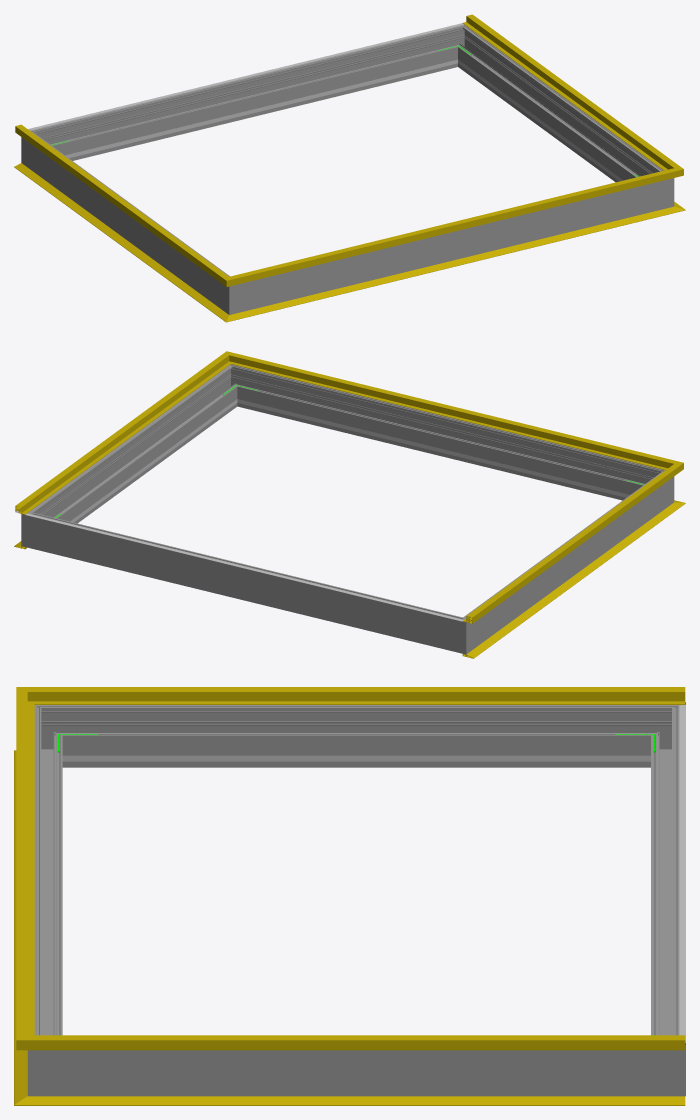
3 views of the same model, one above another, from view 1: azimuth 30°, elevation 25°; view 2: azimuth 150°, elevation 25°; view 3: azimuth 270°, elevation 25° (orthographic). The views are drawn at different scales.
Parts seen in each view (by area): view 1: 3DGeom-276, 3DGeom-298, 3DGeom-297, 3DGeom-268, 3DGeom-123, 3DGeom-128, 3DGeom-28, 3DGeom-118, 3DGeom-38, 3DGeom-244, 3DGeom-220, 3DGeom-270 (+4 smaller); view 2: 3DGeom-298, 3DGeom-276, 3DGeom-297, 3DGeom-123, 3DGeom-268, 3DGeom-128, 3DGeom-118, 3DGeom-38, 3DGeom-239, 3DGeom-278, 3DGeom-220, 3DGeom-284 (+3 smaller); view 3: 3DGeom-268, 3DGeom-297, 3DGeom-118, 3DGeom-128, 3DGeom-298, 3DGeom-276, 3DGeom-30, 3DGeom-123, 3DGeom-232, 3DGeom-220, 3DGeom-290, 3DGeom-284 (+5 smaller).
Part boxes in pixels (x1,y1,x2,y2): 3DGeom-276: (46, 29, 454, 160); 3DGeom-298: (252, 183, 651, 309); 3DGeom-297: (460, 33, 657, 182); 3DGeom-268: (34, 138, 223, 304); 3DGeom-123: (246, 172, 660, 281); 3DGeom-128: (463, 14, 670, 167); 3DGeom-28: (245, 210, 662, 316); 3DGeom-118: (15, 124, 218, 276); 3DGeom-38: (14, 163, 219, 312); 3DGeom-244: (73, 65, 435, 156); 3DGeom-220: (28, 23, 463, 130); 3DGeom-270: (216, 271, 252, 314); 3DGeom-298: (241, 369, 648, 500); 3DGeom-276: (44, 516, 446, 648); 3DGeom-297: (38, 372, 235, 523); 3DGeom-123: (244, 357, 660, 467); 3DGeom-268: (472, 478, 660, 644); 3DGeom-128: (15, 361, 223, 514); 3DGeom-118: (462, 471, 670, 623); 3DGeom-38: (462, 509, 672, 658); 3DGeom-239: (259, 404, 621, 496); 3DGeom-278: (443, 611, 479, 654); 3DGeom-220: (25, 513, 463, 621); 3DGeom-284: (21, 505, 48, 551); 3DGeom-268: (69, 705, 643, 767); 3DGeom-297: (69, 1050, 643, 1096); 3DGeom-118: (58, 687, 685, 704); 3DGeom-128: (58, 1035, 685, 1050); 3DGeom-298: (34, 719, 62, 1035); 3DGeom-276: (651, 719, 679, 1035); 3DGeom-30: (56, 1096, 685, 1105); 3DGeom-123: (16, 705, 34, 1031); 3DGeom-232: (103, 755, 610, 761); 3DGeom-220: (679, 704, 685, 1042); 3DGeom-290: (27, 1027, 69, 1096); 3DGeom-284: (644, 1027, 685, 1096).
Size of the model in its own units: 3.05 by 0.2596 by 2.44.
